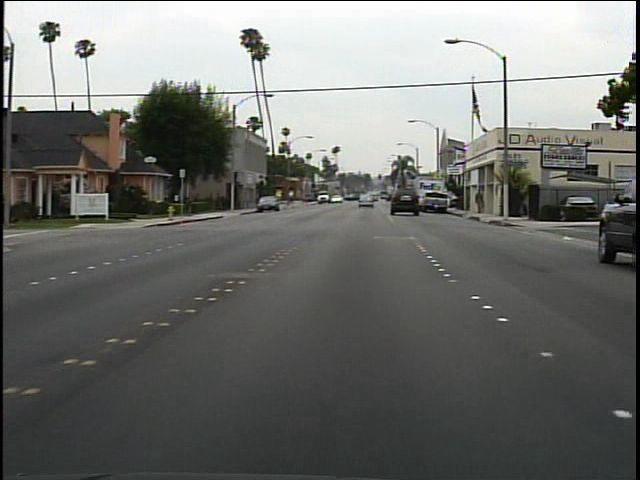person: (473, 187, 490, 218)
